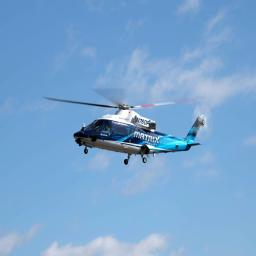helicopter: (45, 91, 213, 168)
